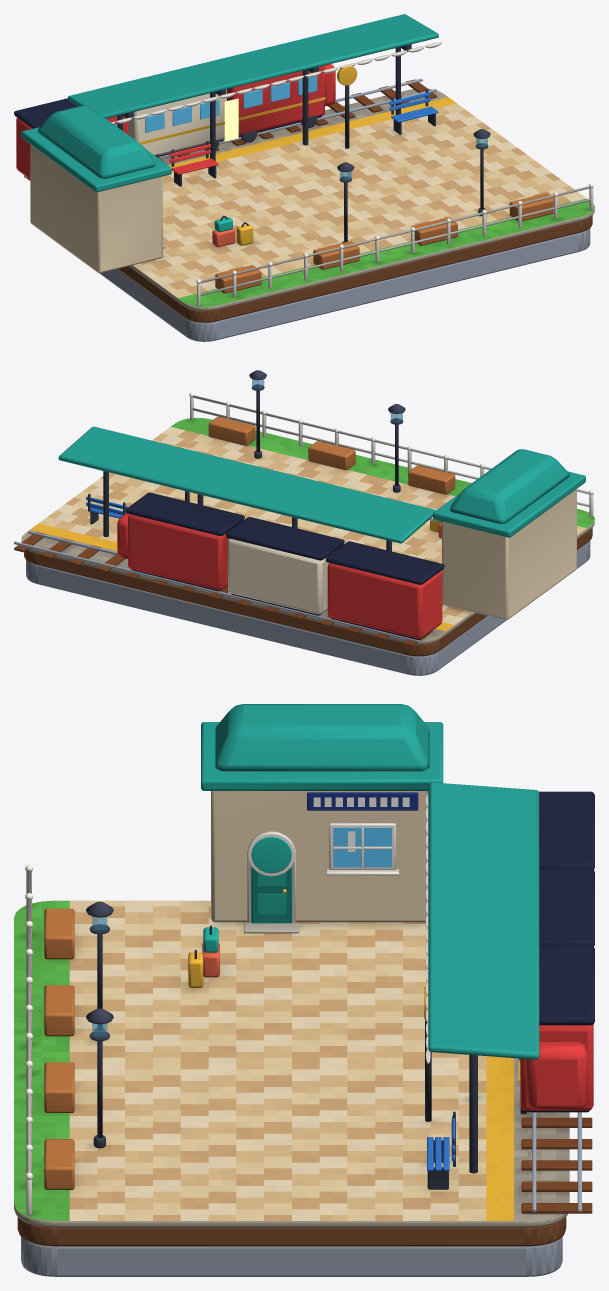
File: station.glb
3 renders of one model, top to bottom at view 1: azimuth 30°, elevation 25°; view 2: azimuth 150°, elevation 25°; view 3: azimuth 270°, elevation 25°, orthographic. The views are drawn at different scales.
Visible parts, largest first — view 1: station_Matte, station_Gloss, station_Satin, station_Metal, station_Glow_warm; view 2: station_Gloss, station_Satin, station_Matte, station_Metal; view 3: station_Matte, station_Gloss, station_Satin, station_Metal.
Boxes of the visible parts, box(x1,y1,x2,y2) form: station_Matte: box(129, 88, 594, 310); station_Gloss: box(14, 14, 590, 295); station_Satin: box(26, 42, 593, 341); station_Metal: box(24, 78, 436, 177); station_Glow_warm: box(224, 98, 238, 141); station_Gloss: box(58, 370, 589, 638); station_Satin: box(14, 392, 593, 675); station_Matte: box(21, 417, 594, 644); station_Metal: box(14, 531, 434, 642); station_Matte: box(14, 797, 569, 1227); station_Gloss: box(27, 704, 594, 1189); station_Satin: box(17, 791, 592, 1276); station_Metal: box(282, 889, 581, 1211).
Bounding box in the file's own units: 16.5 × 5.32 × 11.5.
